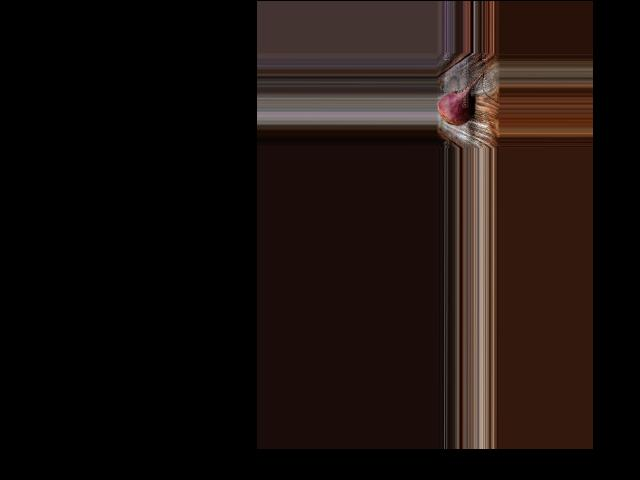beet: (438, 72, 483, 125)
